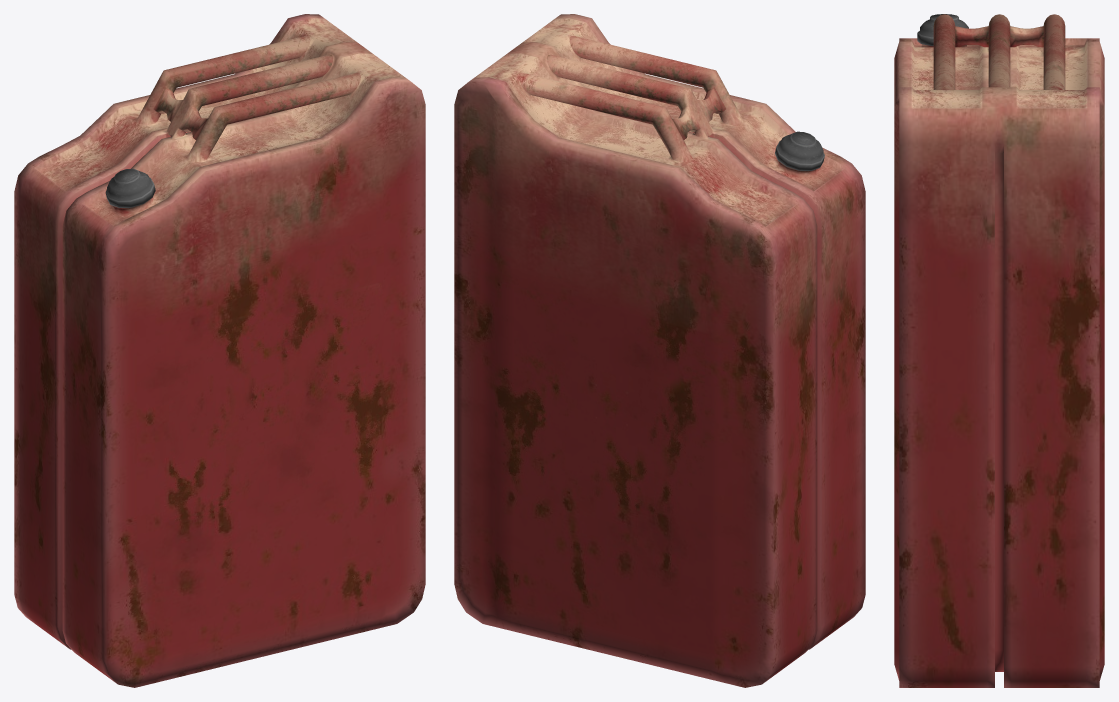
Rendered from jerrycan_low-poly.glb.
The picture shows the model from 3 angles, left to right: view 1: azimuth 30°, elevation 25°; view 2: azimuth 150°, elevation 25°; view 3: azimuth 270°, elevation 25°; orthographic projection. The views are drawn at different scales.
Visible parts, largest first — view 1: Jerrycan; view 2: Jerrycan; view 3: Jerrycan.
Part boxes in pixels (bbox=[...]): Jerrycan: bbox=[14, 14, 425, 687]; Jerrycan: bbox=[454, 14, 865, 687]; Jerrycan: bbox=[894, 14, 1104, 687].
Size of the model in its own units: 0.4 by 0.65 by 0.2095.
Materials: 1 (1 with a texture image).
